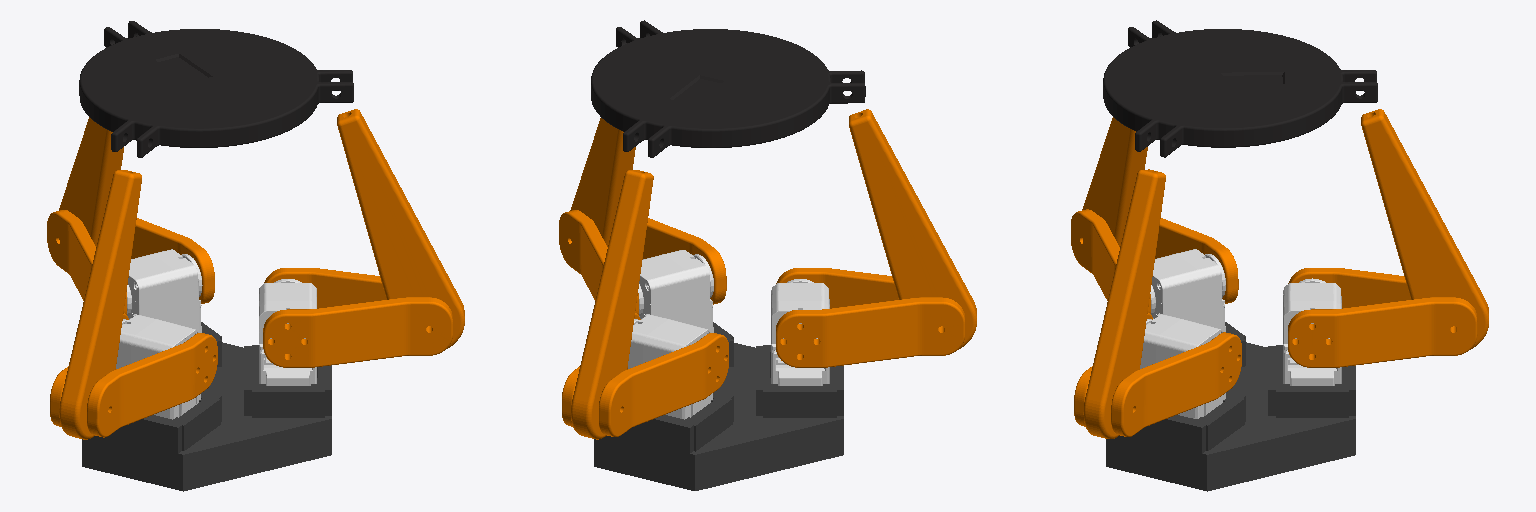
The robot description file, URDF, robot "robot":
<?xml version="1.0" ?>
<!-- Generated using onshape-to-robot -->
<!-- Onshape https://cad.onshape.com/documents/1ba0590d9c30dce016cf6a88/w/a6739e4b1d1c5be1c5b79663/e/bed74cb9519e3eabc367256a -->
<robot name="robot">
  <!-- Link base_link -->
  <link name="base_link">
    <inertial>
      <origin xyz="-2.19039e-05 5e-12 0.0112116" rpy="0 0 0"/>
      <mass value="0.701657"/>
      <inertia ixx="0.000758294" ixy="-2.07934e-06" ixz="1.39259e-07" iyy="0.000758197" iyz="-0" izz="0.00109167"/>
    </inertial>
    <!-- Part st3215 -->
    <visual>
      <origin xyz="-0.00953491 0.0375 0.00948917" rpy="-3.14159 1.56207 1.0102e-08"/>
      <geometry>
        <mesh filename="package://robot/assets/st3215.stl"/>
      </geometry>
      <material name="st3215_material">
        <color rgba="0.917647 0.917647 0.917647 1"/>
      </material>
    </visual>
    <collision>
      <origin xyz="-0.00953491 0.0375 0.00948917" rpy="-3.14159 1.56207 1.0102e-08"/>
      <geometry>
        <mesh filename="package://robot/assets/st3215.stl"/>
      </geometry>
    </collision>
    <!-- Part st3215_2 -->
    <visual>
      <origin xyz="-0.0277585 -0.0271888 0.00948917" rpy="3.14159 1.56207 2.0944"/>
      <geometry>
        <mesh filename="package://robot/assets/st3215.stl"/>
      </geometry>
      <material name="st3215_2_material">
        <color rgba="0.917647 0.917647 0.917647 1"/>
      </material>
    </visual>
    <collision>
      <origin xyz="-0.0277585 -0.0271888 0.00948917" rpy="3.14159 1.56207 2.0944"/>
      <geometry>
        <mesh filename="package://robot/assets/st3215.stl"/>
      </geometry>
    </collision>
    <!-- Part base_link -->
    <visual>
      <origin xyz="0 7e-12 -0.006" rpy="8.8e-11 -0 1e-12"/>
      <geometry>
        <mesh filename="package://robot/assets/base_link.stl"/>
      </geometry>
      <material name="base_link_material">
        <color rgba="0.301961 0.301961 0.301961 1"/>
      </material>
    </visual>
    <collision>
      <origin xyz="0 7e-12 -0.006" rpy="8.8e-11 -0 1e-12"/>
      <geometry>
        <mesh filename="package://robot/assets/base_link.stl"/>
      </geometry>
    </collision>
    <!-- Part st3215_3 -->
    <visual>
      <origin xyz="0.0371934 -0.0103112 0.00948917" rpy="3.14159 1.56207 -2.0944"/>
      <geometry>
        <mesh filename="package://robot/assets/st3215.stl"/>
      </geometry>
      <material name="st3215_3_material">
        <color rgba="0.917647 0.917647 0.917647 1"/>
      </material>
    </visual>
    <collision>
      <origin xyz="0.0371934 -0.0103112 0.00948917" rpy="3.14159 1.56207 -2.0944"/>
      <geometry>
        <mesh filename="package://robot/assets/st3215.stl"/>
      </geometry>
    </collision>
  </link>
  <!-- Link rod_1 -->
  <link name="leg1_upper">
    <inertial>
      <origin xyz="-0.0280003 -0 0" rpy="0 0 0"/>
      <mass value="0.0266055"/>
      <inertia ixx="8.56598e-06" ixy="0" ixz="-0" iyy="1.88629e-05" iyz="0" izz="1.30613e-05"/>
    </inertial>
    <!-- Part rod_1 -->
    <visual>
      <origin xyz="-0.0495492 -0.0125 0" rpy="-1.5708 -1.5708 0"/>
      <geometry>
        <mesh filename="package://robot/assets/rod_1.stl"/>
      </geometry>
      <material name="rod_1_material">
        <color rgba="0.972549 0.529412 0.00392157 1"/>
      </material>
    </visual>
    <collision>
      <origin xyz="-0.0495492 -0.0125 0" rpy="-1.5708 -1.5708 0"/>
      <geometry>
        <mesh filename="package://robot/assets/rod_1.stl"/>
      </geometry>
    </collision>
    <!-- Part rod_1_2 -->
    <visual>
      <origin xyz="-0.0495492 0.0125 -0" rpy="1.5708 1.5708 0"/>
      <geometry>
        <mesh filename="package://robot/assets/rod_1.stl"/>
      </geometry>
      <material name="rod_1_2_material">
        <color rgba="0.972549 0.529412 0.00392157 1"/>
      </material>
    </visual>
    <collision>
      <origin xyz="-0.0495492 0.0125 -0" rpy="1.5708 1.5708 0"/>
      <geometry>
        <mesh filename="package://robot/assets/rod_1.stl"/>
      </geometry>
    </collision>
  </link>
  <!-- Link rod_2 -->
  <link name="leg1_lower">
    <inertial>
      <origin xyz="0.0325254 -0 -0" rpy="0 0 0"/>
      <mass value="0.0295146"/>
      <inertia ixx="1.5431e-06" ixy="-0" ixz="0" iyy="2.72758e-05" iyz="0" izz="2.82494e-05"/>
    </inertial>
    <!-- Part rod_2 -->
    <visual>
      <origin xyz="-0 0 -0" rpy="-1.5708 -1.5708 0"/>
      <geometry>
        <mesh filename="package://robot/assets/rod_2.stl"/>
      </geometry>
      <material name="rod_2_material">
        <color rgba="0.972549 0.529412 0.00392157 1"/>
      </material>
    </visual>
    <collision>
      <origin xyz="-0 0 -0" rpy="-1.5708 -1.5708 0"/>
      <geometry>
        <mesh filename="package://robot/assets/rod_2.stl"/>
      </geometry>
    </collision>
  </link>
  <!-- Link plate -->
  <link name="platform">
    <inertial>
      <origin xyz="-0.0575484 -1.55756e-05 0" rpy="0 0 0"/>
      <mass value="0.0924122"/>
      <inertia ixx="6.24868e-05" ixy="1.8062e-08" ixz="0" iyy="0.000123663" iyz="0" izz="6.2414e-05"/>
    </inertial>
    <!-- Part plate -->
    <visual>
      <origin xyz="-0.0575 -0.0045 0" rpy="-1.5708 -1.5708 0"/>
      <geometry>
        <mesh filename="package://robot/assets/plate.stl"/>
      </geometry>
      <material name="plate_material">
        <color rgba="0.196078 0.188235 0.188235 1"/>
      </material>
    </visual>
    <collision>
      <origin xyz="-0.0575 -0.0045 0" rpy="-1.5708 -1.5708 0"/>
      <geometry>
        <mesh filename="package://robot/assets/plate.stl"/>
      </geometry>
    </collision>
  </link>
  <!-- Frame tracking (dummy link + fixed joint) -->
  <link name="tracking">
    <inertial>
      <origin xyz="0 0 0" rpy="0 0 0"/>
      <mass value="1e-9"/>
      <inertia ixx="1e-12" ixy="0" ixz="0" iyy="1e-12" iyz="0" izz="1e-12"/>
    </inertial>
  </link>
  <joint name="tracking_frame" type="fixed">
    <origin xyz="-0.056 0.0045 0" rpy="-1.5708 -0 0"/>
    <parent link="platform"/>
    <child link="tracking"/>
    <axis xyz="0 0 0"/>
  </joint>
  <!-- Frame closing_leg2_ball_1 (dummy link + fixed joint) -->
  <link name="closing_leg2_ball_1">
    <inertial>
      <origin xyz="0 0 0" rpy="0 0 0"/>
      <mass value="1e-9"/>
      <inertia ixx="1e-12" ixy="0" ixz="0" iyy="1e-12" iyz="0" izz="1e-12"/>
    </inertial>
  </link>
  <joint name="closing_leg2_ball_1_frame" type="fixed">
    <origin xyz="-0.08625 0 0.0497965" rpy="1.5708 -1.0472 -3.14159"/>
    <parent link="platform"/>
    <child link="closing_leg2_ball_1"/>
    <axis xyz="0 0 0"/>
  </joint>
  <!-- Frame closing_leg3_ball_1 (dummy link + fixed joint) -->
  <link name="closing_leg3_ball_1">
    <inertial>
      <origin xyz="0 0 0" rpy="0 0 0"/>
      <mass value="1e-9"/>
      <inertia ixx="1e-12" ixy="0" ixz="0" iyy="1e-12" iyz="0" izz="1e-12"/>
    </inertial>
  </link>
  <joint name="closing_leg3_ball_1_frame" type="fixed">
    <origin xyz="-0.08625 0 -0.0497965" rpy="1.5708 1.0472 -3.14159"/>
    <parent link="platform"/>
    <child link="closing_leg3_ball_1"/>
    <axis xyz="0 0 0"/>
  </joint>
  <!-- leg1 spherical joint approximation: Z-Y-X revolute chain -->
  <link name="leg1_ball_z_link">
    <inertial>
      <origin xyz="0 0 0" rpy="0 0 0"/>
      <mass value="1e-9"/>
      <inertia ixx="1e-12" ixy="0" ixz="0" iyy="1e-12" iyz="0" izz="1e-12"/>
    </inertial>
  </link>
  <link name="leg1_ball_y_link">
    <inertial>
      <origin xyz="0 0 0" rpy="0 0 0"/>
      <mass value="1e-9"/>
      <inertia ixx="1e-12" ixy="0" ixz="0" iyy="1e-12" iyz="0" izz="1e-12"/>
    </inertial>
  </link>
  <joint name="leg1_ball_z" type="revolute">
    <origin xyz="0.114 0 0" rpy="0.00716805 0.0291991 -1.92504"/>
    <parent link="leg1_lower"/>
    <child link="leg1_ball_z_link"/>
    <axis xyz="0 0 1"/>
    <limit effort="10" velocity="10" lower="-3.141592653589793" upper="3.141592653589793"/>
  </joint>
  <joint name="leg1_ball_y" type="revolute">
    <origin xyz="0 0 0" rpy="0 0 0"/>
    <parent link="leg1_ball_z_link"/>
    <child link="leg1_ball_y_link"/>
    <axis xyz="0 1 0"/>
    <limit effort="10" velocity="10" lower="-3.141592653589793" upper="3.141592653589793"/>
  </joint>
  <joint name="leg1_ball_x" type="revolute">
    <origin xyz="0 0 0" rpy="0 0 0"/>
    <parent link="leg1_ball_y_link"/>
    <child link="platform"/>
    <axis xyz="1 0 0"/>
    <limit effort="10" velocity="10" lower="-3.141592653589793" upper="3.141592653589793"/>
  </joint>
  <!-- Joint from rod_1 to rod_2 -->
  <joint name="leg1_2" type="revolute">
    <origin xyz="-0.0595492 -0 0" rpy="0 0 -1.21629"/>
    <parent link="leg1_upper"/>
    <child link="leg1_lower"/>
    <axis xyz="0 0 1"/>
    <limit effort="10" velocity="10" lower="-3.141592653589793" upper="3.141592653589793"/>
  </joint>
  <!-- Joint from base_link to rod_1 -->
  <joint name="leg1_1" type="revolute">
    <origin xyz="-0.000657784 0.0375 0.0350676" rpy="-1.56207 8.8e-11 -1.5708"/>
    <parent link="base_link"/>
    <child link="leg1_upper"/>
    <axis xyz="0 0 1"/>
    <limit effort="10" velocity="10" lower="0" upper="1.5708"/>
  </joint>
  <!-- Link rod_1_2 -->
  <link name="leg2_upper">
    <inertial>
      <origin xyz="-0.0280003 0 -0" rpy="0 0 0"/>
      <mass value="0.0266055"/>
      <inertia ixx="8.56598e-06" ixy="0" ixz="-0" iyy="1.88629e-05" iyz="0" izz="1.30613e-05"/>
    </inertial>
    <!-- Part rod_1_3 -->
    <visual>
      <origin xyz="-0.0495492 -0.0125 -0" rpy="-1.5708 -1.5708 0"/>
      <geometry>
        <mesh filename="package://robot/assets/rod_1.stl"/>
      </geometry>
      <material name="rod_1_3_material">
        <color rgba="0.972549 0.529412 0.00392157 1"/>
      </material>
    </visual>
    <collision>
      <origin xyz="-0.0495492 -0.0125 -0" rpy="-1.5708 -1.5708 0"/>
      <geometry>
        <mesh filename="package://robot/assets/rod_1.stl"/>
      </geometry>
    </collision>
    <!-- Part rod_1_4 -->
    <visual>
      <origin xyz="-0.0495492 0.0125 -0" rpy="1.5708 1.5708 0"/>
      <geometry>
        <mesh filename="package://robot/assets/rod_1.stl"/>
      </geometry>
      <material name="rod_1_4_material">
        <color rgba="0.972549 0.529412 0.00392157 1"/>
      </material>
    </visual>
    <collision>
      <origin xyz="-0.0495492 0.0125 -0" rpy="1.5708 1.5708 0"/>
      <geometry>
        <mesh filename="package://robot/assets/rod_1.stl"/>
      </geometry>
    </collision>
  </link>
  <!-- Link rod_2_2 -->
  <link name="leg2_lower">
    <inertial>
      <origin xyz="0.0325254 0 -0" rpy="0 0 0"/>
      <mass value="0.0295146"/>
      <inertia ixx="1.5431e-06" ixy="-0" ixz="-0" iyy="2.72758e-05" iyz="-0" izz="2.82494e-05"/>
    </inertial>
    <!-- Part rod_2_2 -->
    <visual>
      <origin xyz="0 0 -0" rpy="-1.5708 -1.5708 0"/>
      <geometry>
        <mesh filename="package://robot/assets/rod_2.stl"/>
      </geometry>
      <material name="rod_2_2_material">
        <color rgba="0.972549 0.529412 0.00392157 1"/>
      </material>
    </visual>
    <collision>
      <origin xyz="0 0 -0" rpy="-1.5708 -1.5708 0"/>
      <geometry>
        <mesh filename="package://robot/assets/rod_2.stl"/>
      </geometry>
    </collision>
  </link>
  <!-- Frame closing_leg3_ball_2 (dummy link + fixed joint) -->
  <link name="closing_leg3_ball_2">
    <inertial>
      <origin xyz="0 0 0" rpy="0 0 0"/>
      <mass value="1e-9"/>
      <inertia ixx="1e-12" ixy="0" ixz="0" iyy="1e-12" iyz="0" izz="1e-12"/>
    </inertial>
  </link>
  <joint name="closing_leg3_ball_2_frame" type="fixed">
    <origin xyz="0.114 0 -0" rpy="-1.5708 0 -1.5708"/>
    <parent link="leg2_lower"/>
    <child link="closing_leg3_ball_2"/>
    <axis xyz="0 0 0"/>
  </joint>
  <!-- Joint from rod_1_2 to rod_2_2 -->
  <joint name="leg2_2" type="revolute">
    <origin xyz="-0.0595492 0 -0" rpy="-0 0 -1.21431"/>
    <parent link="leg2_upper"/>
    <child link="leg2_lower"/>
    <axis xyz="0 0 1"/>
    <limit effort="10" velocity="10" lower="-3.141592653589793" upper="3.141592653589793"/>
  </joint>
  <!-- Joint from base_link to rod_1_2 -->
  <joint name="leg2_1" type="revolute">
    <origin xyz="-0.0321971 -0.019501 0.0350676" rpy="-1.56207 -4.4e-11 0.523599"/>
    <parent link="base_link"/>
    <child link="leg2_upper"/>
    <axis xyz="0 0 1"/>
    <limit effort="10" velocity="10" lower="0" upper="1.5708"/>
  </joint>
  <!-- Link rod_1_3 -->
  <link name="leg3_upper">
    <inertial>
      <origin xyz="-0.0280003 -0 0" rpy="0 0 0"/>
      <mass value="0.0266055"/>
      <inertia ixx="8.56598e-06" ixy="0" ixz="0" iyy="1.88629e-05" iyz="0" izz="1.30613e-05"/>
    </inertial>
    <!-- Part rod_1_5 -->
    <visual>
      <origin xyz="-0.0495492 0.0125 -0" rpy="1.5708 1.5708 0"/>
      <geometry>
        <mesh filename="package://robot/assets/rod_1.stl"/>
      </geometry>
      <material name="rod_1_5_material">
        <color rgba="0.972549 0.529412 0.00392157 1"/>
      </material>
    </visual>
    <collision>
      <origin xyz="-0.0495492 0.0125 -0" rpy="1.5708 1.5708 0"/>
      <geometry>
        <mesh filename="package://robot/assets/rod_1.stl"/>
      </geometry>
    </collision>
    <!-- Part rod_1_6 -->
    <visual>
      <origin xyz="-0.0495492 -0.0125 0" rpy="-1.5708 -1.5708 0"/>
      <geometry>
        <mesh filename="package://robot/assets/rod_1.stl"/>
      </geometry>
      <material name="rod_1_6_material">
        <color rgba="0.972549 0.529412 0.00392157 1"/>
      </material>
    </visual>
    <collision>
      <origin xyz="-0.0495492 -0.0125 0" rpy="-1.5708 -1.5708 0"/>
      <geometry>
        <mesh filename="package://robot/assets/rod_1.stl"/>
      </geometry>
    </collision>
  </link>
  <!-- Link rod_2_3 -->
  <link name="leg3_lower">
    <inertial>
      <origin xyz="0.0325254 -0 -0" rpy="0 0 0"/>
      <mass value="0.0295146"/>
      <inertia ixx="1.5431e-06" ixy="-0" ixz="-0" iyy="2.72758e-05" iyz="0" izz="2.82494e-05"/>
    </inertial>
    <!-- Part rod_2_3 -->
    <visual>
      <origin xyz="0 0 -0" rpy="-1.5708 -1.5708 0"/>
      <geometry>
        <mesh filename="package://robot/assets/rod_2.stl"/>
      </geometry>
      <material name="rod_2_3_material">
        <color rgba="0.972549 0.529412 0.00392157 1"/>
      </material>
    </visual>
    <collision>
      <origin xyz="0 0 -0" rpy="-1.5708 -1.5708 0"/>
      <geometry>
        <mesh filename="package://robot/assets/rod_2.stl"/>
      </geometry>
    </collision>
  </link>
  <!-- Frame closing_leg2_ball_2 (dummy link + fixed joint) -->
  <link name="closing_leg2_ball_2">
    <inertial>
      <origin xyz="0 0 0" rpy="0 0 0"/>
      <mass value="1e-9"/>
      <inertia ixx="1e-12" ixy="0" ixz="0" iyy="1e-12" iyz="0" izz="1e-12"/>
    </inertial>
  </link>
  <joint name="closing_leg2_ball_2_frame" type="fixed">
    <origin xyz="0.114 0 -0" rpy="-1.5708 0 -1.5708"/>
    <parent link="leg3_lower"/>
    <child link="closing_leg2_ball_2"/>
    <axis xyz="0 0 0"/>
  </joint>
  <!-- Joint from rod_1_3 to rod_2_3 -->
  <joint name="leg3_2" type="revolute">
    <origin xyz="-0.0595492 0 0" rpy="0 -0 -1.21824"/>
    <parent link="leg3_upper"/>
    <child link="leg3_lower"/>
    <axis xyz="0 0 1"/>
    <limit effort="10" velocity="10" lower="-3.141592653589793" upper="3.141592653589793"/>
  </joint>
  <!-- Joint from base_link to rod_1_3 -->
  <joint name="leg3_1" type="revolute">
    <origin xyz="0.0327548 -0.017999 0.0350676" rpy="-1.56207 -4.4e-11 2.61799"/>
    <parent link="base_link"/>
    <child link="leg3_upper"/>
    <axis xyz="0 0 1"/>
    <limit effort="10" velocity="10" lower="0" upper="1.5708"/>
  </joint>
</robot>

--- What the picture shows (computed from the rendered views, not written in the file) ---
Views: 3 orthographic renders of the robot side by side, from view 1: azimuth 30°, elevation 25°; view 2: azimuth 150°, elevation 25°; view 3: azimuth 270°, elevation 25°.
Robot: robot — 15 links, 14 joints (9 revolute, 5 fixed); root link base_link; default pose: every joint at zero.
Links seen in each view (by area): view 1: base_link, platform, leg3_upper, leg3_lower, leg2_lower, leg2_upper, leg1_upper, leg1_lower; view 2: base_link, platform, leg2_upper, leg2_lower, leg1_lower, leg1_upper, leg3_upper, leg3_lower; view 3: base_link, platform, leg1_upper, leg1_lower, leg3_lower, leg3_upper, leg2_upper, leg2_lower.
Boxes of the visible links, left/top/right/bottom form: base_link: left=82, top=249, right=331, bottom=491; platform: left=79, top=21, right=353, bottom=157; leg3_upper: left=263, top=268, right=452, bottom=367; leg3_lower: left=337, top=109, right=464, bottom=348; leg2_lower: left=59, top=170, right=141, bottom=439; leg2_upper: left=50, top=313, right=217, bottom=437; leg1_upper: left=47, top=210, right=214, bottom=314; leg1_lower: left=59, top=117, right=123, bottom=246; base_link: left=594, top=250, right=843, bottom=490; platform: left=591, top=20, right=865, bottom=157; leg2_upper: left=776, top=268, right=964, bottom=367; leg2_lower: left=849, top=109, right=976, bottom=349; leg1_lower: left=571, top=170, right=653, bottom=439; leg1_upper: left=562, top=313, right=728, bottom=436; leg3_upper: left=559, top=210, right=726, bottom=314; leg3_lower: left=570, top=118, right=635, bottom=246; base_link: left=1106, top=249, right=1355, bottom=491; platform: left=1103, top=20, right=1377, bottom=157; leg1_upper: left=1288, top=268, right=1477, bottom=367; leg1_lower: left=1361, top=109, right=1488, bottom=348; leg3_lower: left=1083, top=169, right=1165, bottom=438; leg3_upper: left=1074, top=313, right=1241, bottom=436; leg2_upper: left=1071, top=209, right=1238, bottom=313; leg2_lower: left=1082, top=117, right=1147, bottom=246.
Size in the robot's own frame: 0.1976 by 0.1764 by 0.1636 metres.
14 mesh visuals loaded from 5 distinct referenced files (5 binary STL).
